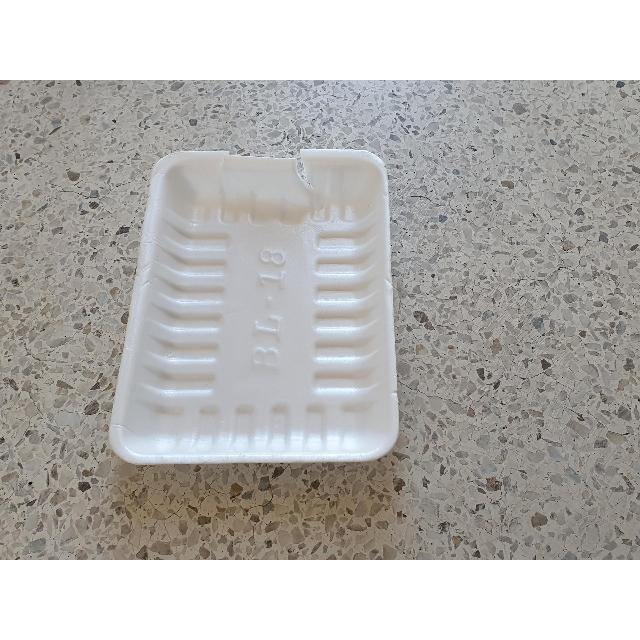Plastico descartable: (109, 149, 400, 468)
